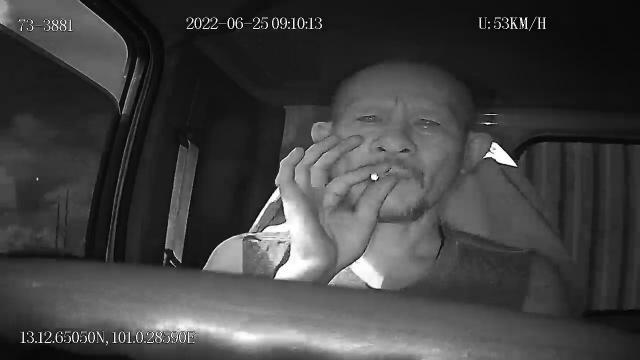SafeDriving: (407, 108, 448, 137), (349, 105, 388, 128)
Smoking: (370, 170, 384, 182)
